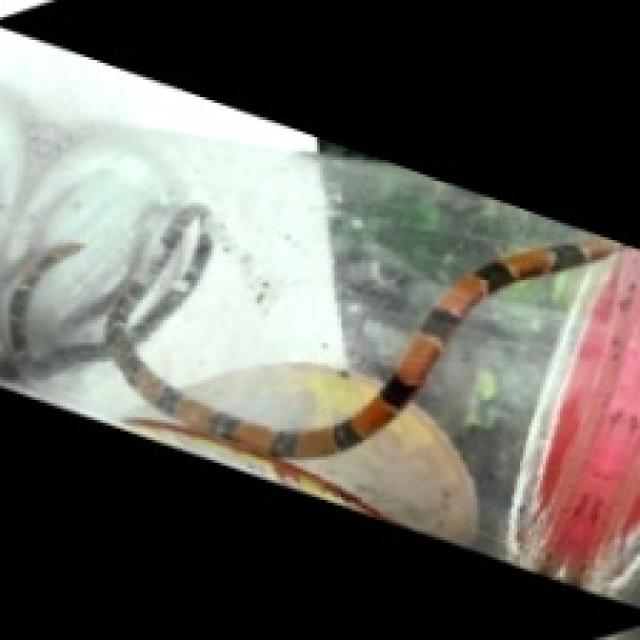barredcoral snake: (1, 205, 616, 459)
